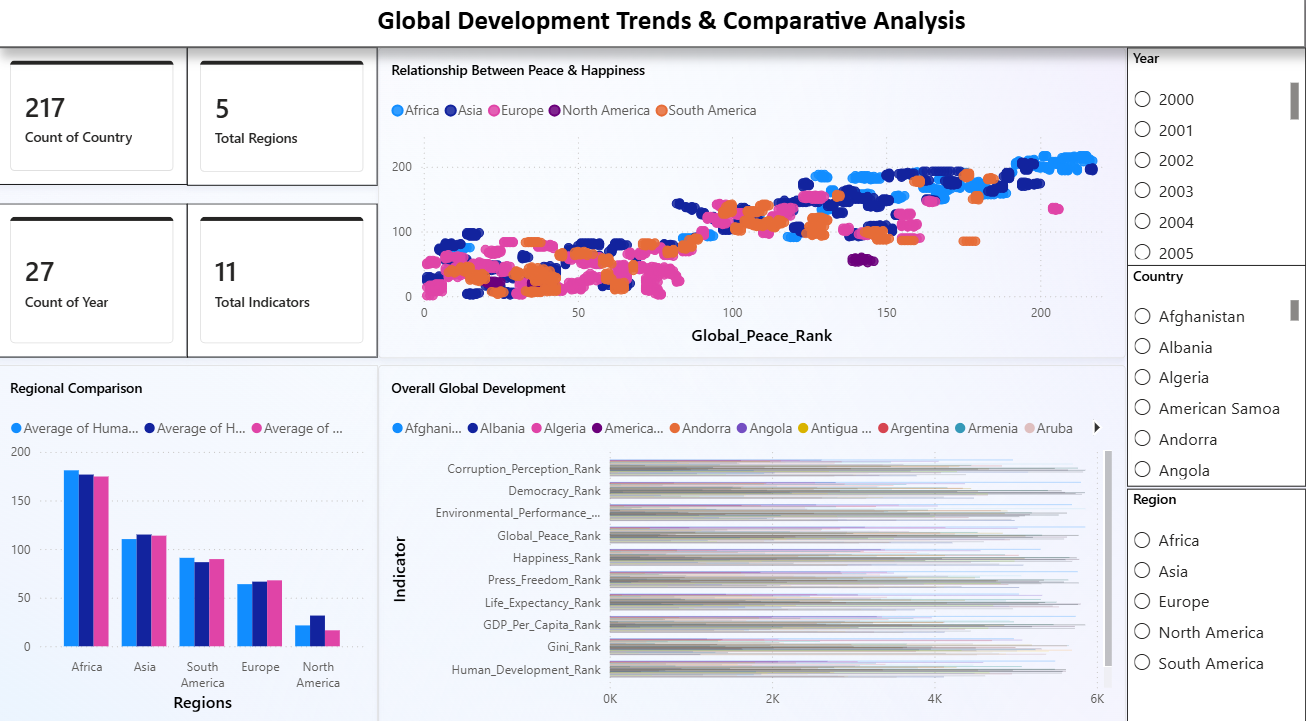

The page's visual inventory and layout, read from the dashboard file:
{"tool":"powerbi","page":{"name":"Global Country Rankings Analysis","canvas":[1280,720],"ordinal":0},"visuals":[{"type":"cardVisual","fields":{"Data":["Count(global_country_rankings_2000_2026.Country)"]},"box":[0,55.9,186.4,134.8],"z":0},{"type":"cardVisual","fields":{"Data":["Count(global_country_rankings_2000_2026.Year)"]},"box":[0,209.3,186.7,150],"z":1000},{"type":"cardVisual","fields":{"Data":["Count(global_country_rankings_2000_2026.Region)"]},"box":[186.4,55.9,186.7,135],"z":2000},{"type":"scatterChart","title":"Relationship Between Peace & Happiness","fields":{"X":["global_country_rankings_2000_2026.Global_Peace_Rank"],"Y":["global_country_rankings_2000_2026.Happiness_Rank"],"Series":["global_country_rankings_2000_2026.Region"]},"box":[372.8,55.9,731.2,303.9],"z":3000},{"type":"listSlicer","fields":{"Values":["global_country_rankings_2000_2026.Year"]},"box":[1105.4,55.9,174.9,213.6],"z":4000},{"type":"listSlicer","fields":{"Values":["Country_Unpivot.Country"]},"box":[1105.4,269.5,174.9,216.5],"z":5000},{"type":"clusteredBarChart","title":"Overall Global Development","fields":{"Category":["Country_Unpivot.Indicator"],"Y":["Sum(Country_Unpivot.Rank)"],"Series":["Country_Unpivot.Country"]},"box":[372.8,367,731.2,352.7],"z":6000},{"type":"clusteredColumnChart","title":"Regional Comparison","fields":{"Category":["global_country_rankings_2000_2026.Region"],"Y":["Avg(global_country_rankings_2000_2026.Human_Development_Rank)","Avg(global_country_rankings_2000_2026.Happiness_Rank)","Avg(global_country_rankings_2000_2026.GDP_Per_Capita_Rank)"]},"box":[0,367,372.8,352.7],"z":7000},{"type":"cardVisual","fields":{"Data":["Count(Country_Unpivot.Indicator)"]},"box":[186.4,209.3,186,150],"z":8000},{"type":"listSlicer","fields":{"Values":["Country_Unpivot.Region"]},"box":[1105.4,487.5,174.9,232.3],"z":9000},{"type":"textbox","box":[0,7.2,1280.3,48.7],"z":9001}]}

Visuals, with their boxes in screenshot pixels (x1, y1, x2, y2), scaled from the page's 1280x720 canvas onto the 1306x721 screenshot:
cardVisual - Count(global_country_rankings_2000_2026.Country): [0,56,190,191]
cardVisual - Count(global_country_rankings_2000_2026.Year): [0,210,190,360]
cardVisual - Count(global_country_rankings_2000_2026.Region): [190,56,381,191]
"Relationship Between Peace & Happiness" scatterChart: [380,56,1126,360]
listSlicer - global_country_rankings_2000_2026.Year: [1128,56,1305,270]
listSlicer - Country_Unpivot.Country: [1128,270,1305,487]
"Overall Global Development" clusteredBarChart: [380,368,1126,720]
"Regional Comparison" clusteredColumnChart: [0,368,380,720]
cardVisual - Count(Country_Unpivot.Indicator): [190,210,380,360]
listSlicer - Country_Unpivot.Region: [1128,488,1305,720]
textbox: [0,7,1305,56]
